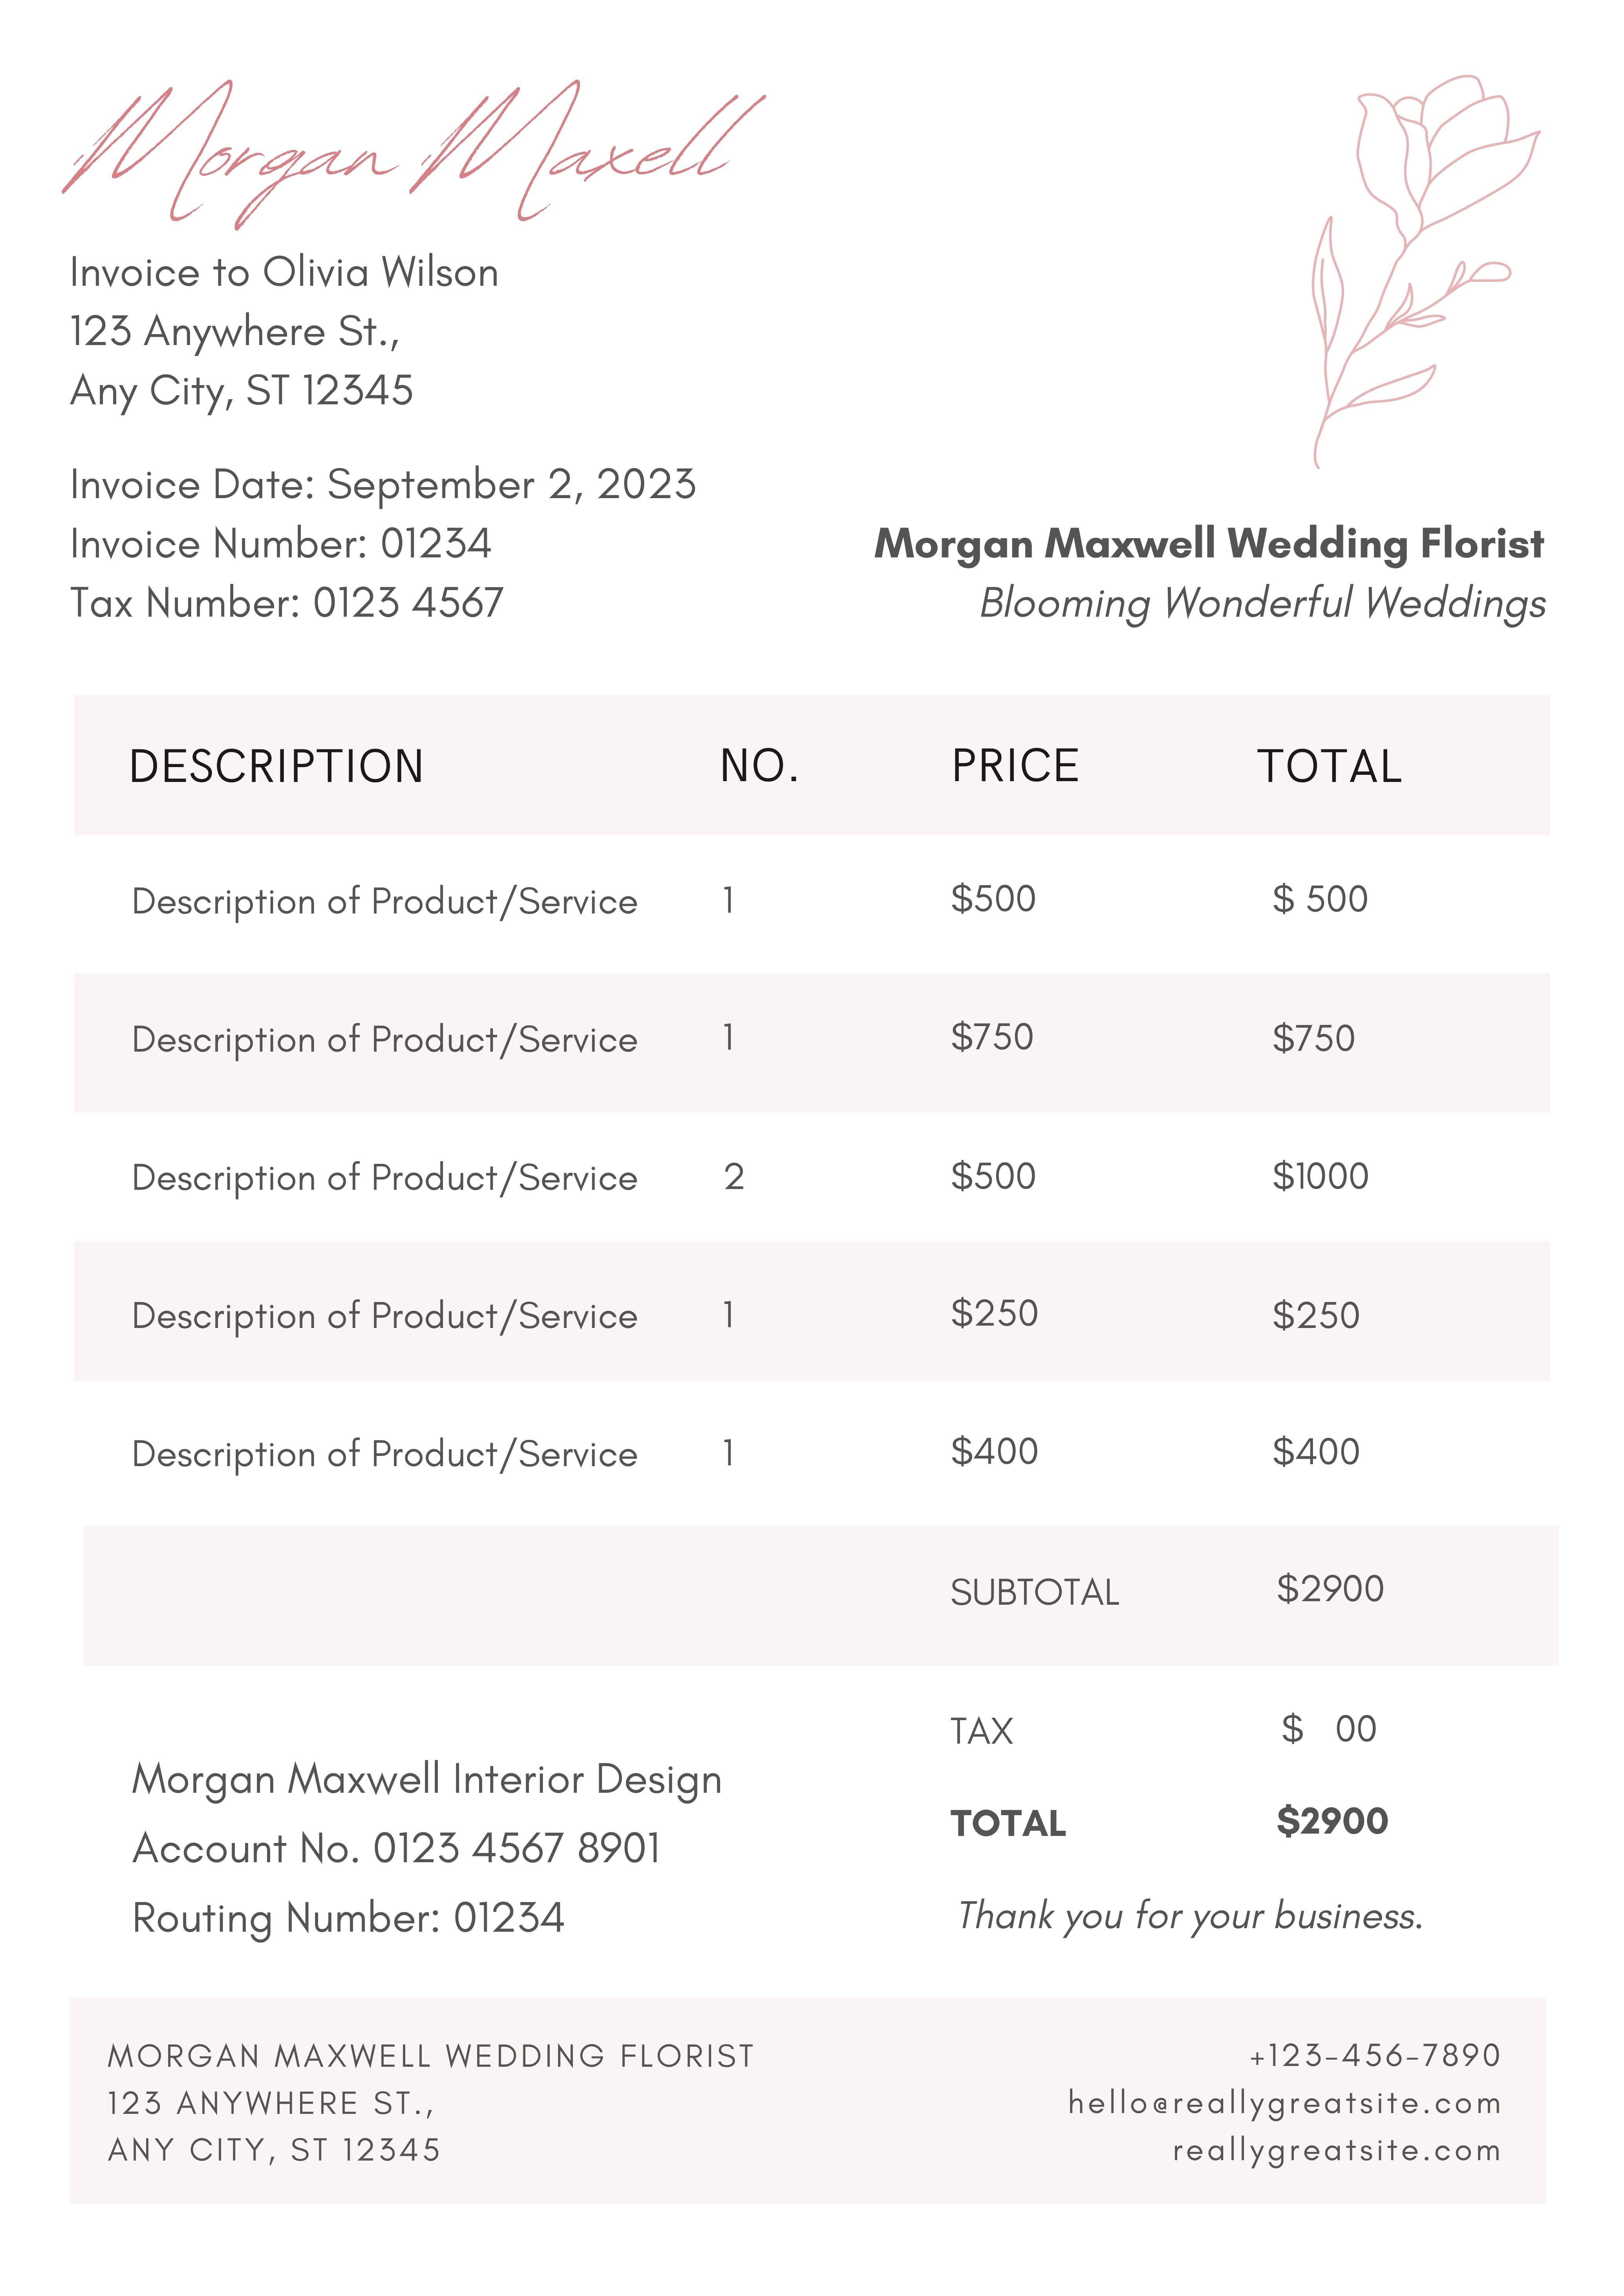ROI: (74, 690, 1520, 1518), (97, 2020, 1524, 2184), (118, 1722, 750, 1975), (933, 1562, 1411, 1860), (56, 448, 719, 643), (62, 235, 573, 434)
